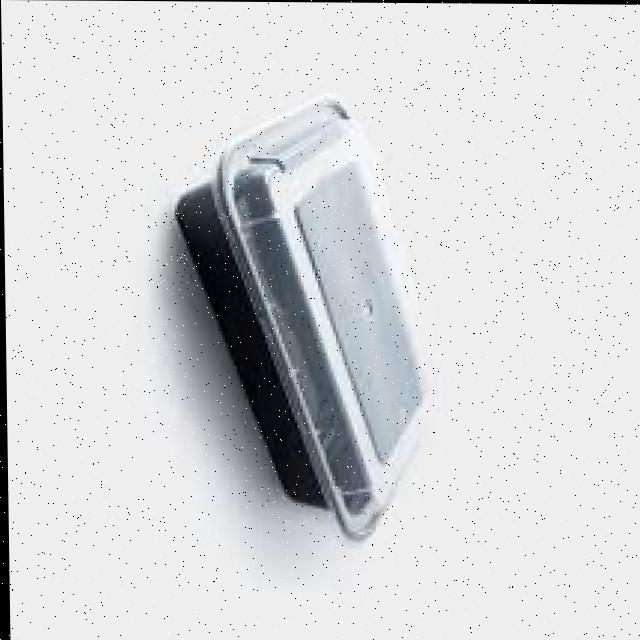disposable: (158, 98, 468, 582)
